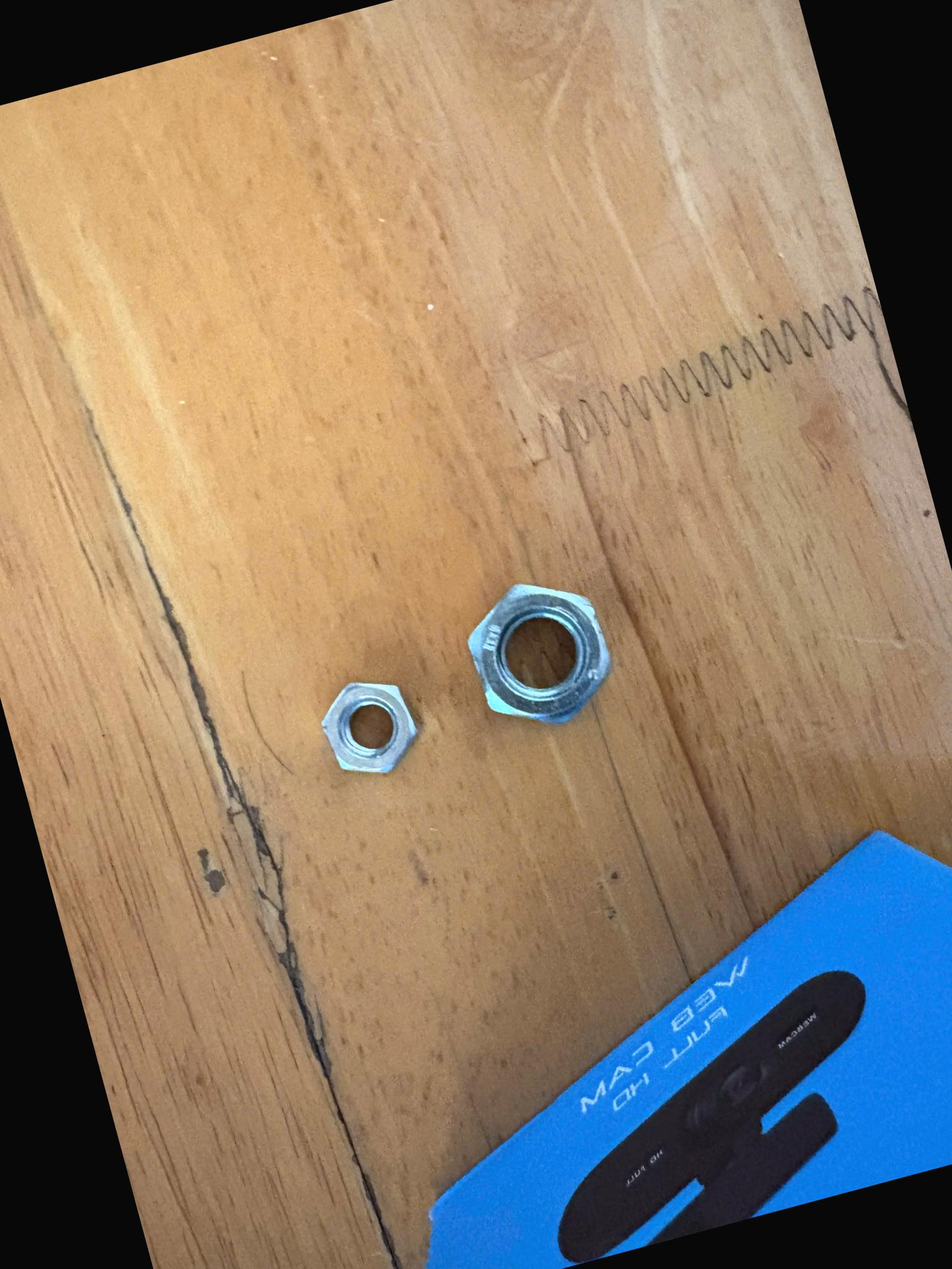nut: (426, 538, 657, 772), (293, 663, 438, 801)
